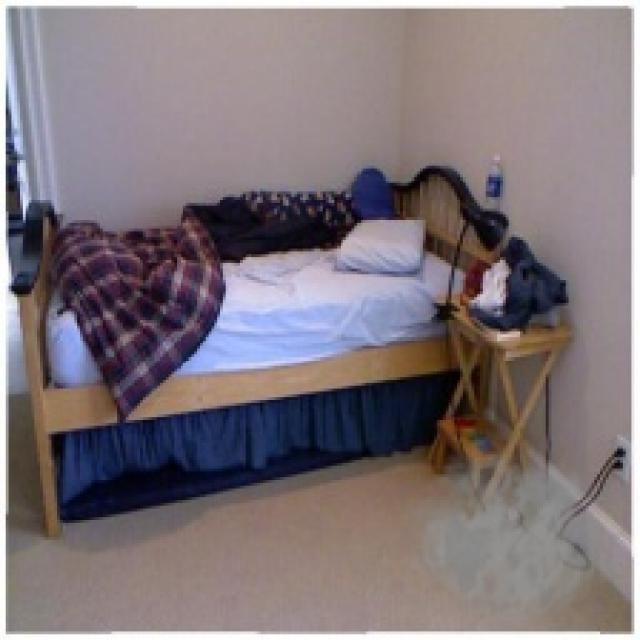smoke: (400, 428, 611, 632)
